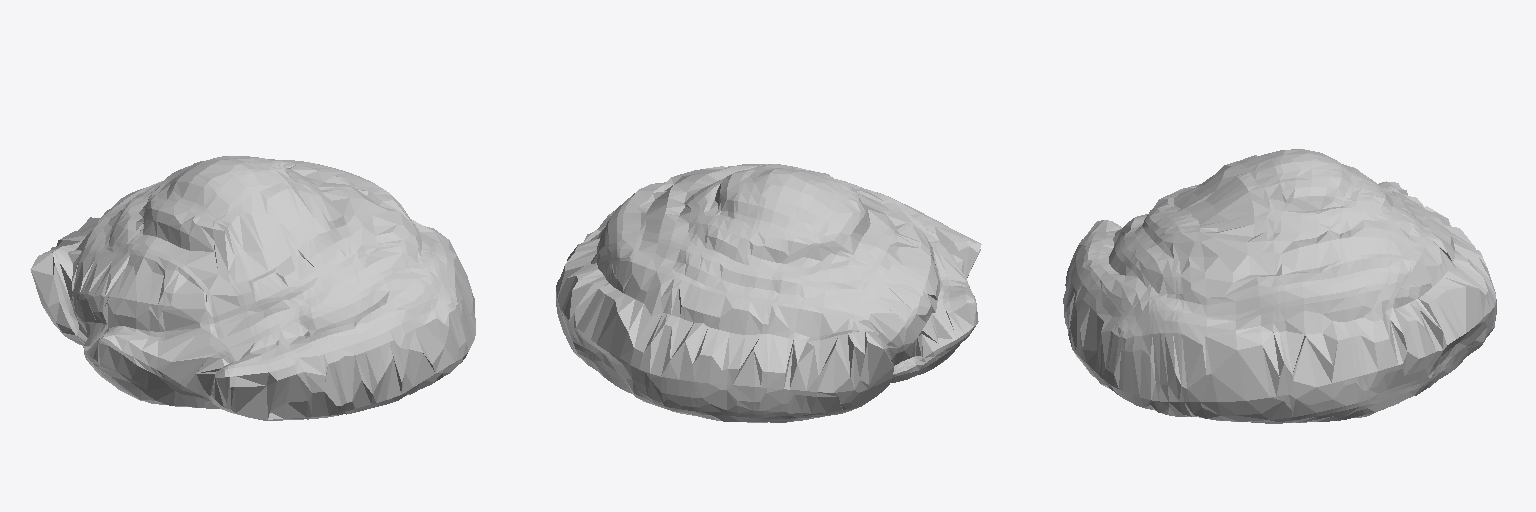
File: pan2.obj
3 renders of one model, left to right at view 1: azimuth 30°, elevation 25°; view 2: azimuth 150°, elevation 25°; view 3: azimuth 270°, elevation 25°, orthographic.
Visible parts, largest first — view 1: pasted__pasted__pasted__pasted__polySurface4176 croissant5k40:cr; view 2: pasted__pasted__pasted__pasted__polySurface4176 croissant5k40:cr; view 3: pasted__pasted__pasted__pasted__polySurface4176 croissant5k40:cr.
Part boxes in pixels (bbox=[...]): pasted__pasted__pasted__pasted__polySurface4176 croissant5k40:cr: bbox=[30, 156, 475, 420]; pasted__pasted__pasted__pasted__polySurface4176 croissant5k40:cr: bbox=[556, 164, 981, 422]; pasted__pasted__pasted__pasted__polySurface4176 croissant5k40:cr: bbox=[1063, 149, 1496, 423].
Bounding box in the file's own units: 0.173 × 0.0806 × 0.1764.